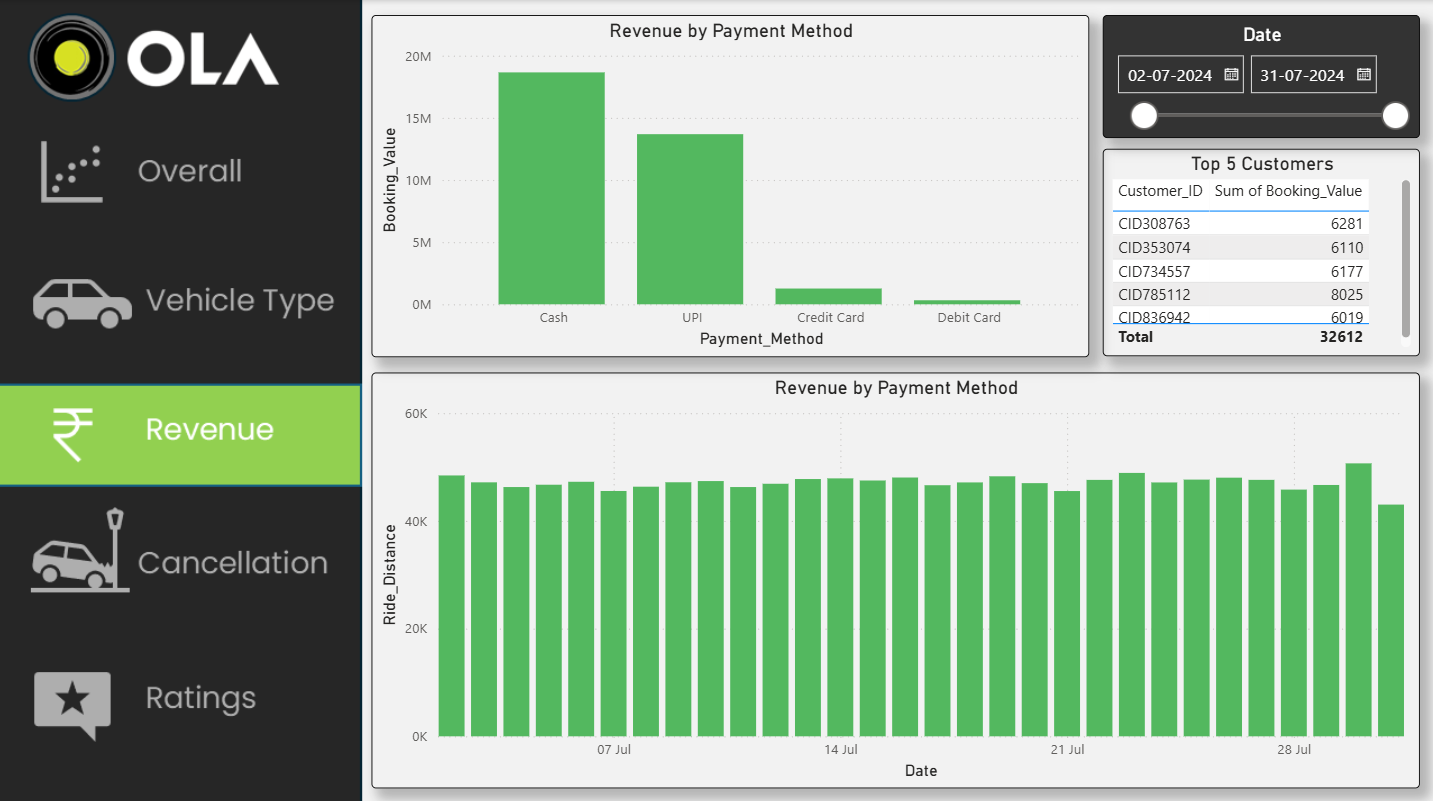

The dashboard page shown, as its layout file describes it:
{"tool":"powerbi","page":{"name":"Revenue","canvas":[1280,720],"ordinal":2},"visuals":[{"type":"actionButton","box":[0,224.4,323.3,91.7],"z":0},{"type":"actionButton","box":[0,108.6,323.3,91.7],"z":1},{"type":"actionButton","box":[0,444,323.3,98.9],"z":2},{"type":"actionButton","box":[0,579.1,323.3,98.9],"z":3},{"type":"columnChart","title":"Revenue by Payment Method","fields":{"Y":["Sum(July.Booking_Value)"],"Category":["July.Payment_Method"]},"box":[331.8,13,639.1,304.4],"z":4},{"type":"columnChart","title":"Revenue by Payment Method","fields":{"Y":["Sum(July.Ride_Distance)"],"Category":["July.Date"]},"box":[331.8,331.8,933.5,370.8],"z":5},{"type":"slicer","title":"Date","fields":{"Values":["July.Date"]},"box":[982.5,13,282.8,109.6],"z":6},{"type":"tableEx","title":"Top 5 Customers","fields":{"Values":["July.Customer_ID","Sum(July.Booking_Value)"]},"box":[982.5,132.7,282.8,184.7],"z":7}]}

Visuals, with their boxes in screenshot pixels (x1, y1, x2, y2), scaled from the page's 1280x720 canvas onto the 1433x801 screenshot:
actionButton: left=0, top=250, right=362, bottom=352
actionButton: left=0, top=121, right=362, bottom=223
actionButton: left=0, top=494, right=362, bottom=604
actionButton: left=0, top=644, right=362, bottom=754
"Revenue by Payment Method" columnChart: left=371, top=14, right=1087, bottom=353
"Revenue by Payment Method" columnChart: left=371, top=369, right=1417, bottom=782
"Date" slicer: left=1100, top=14, right=1417, bottom=136
"Top 5 Customers" tableEx: left=1100, top=148, right=1417, bottom=353
